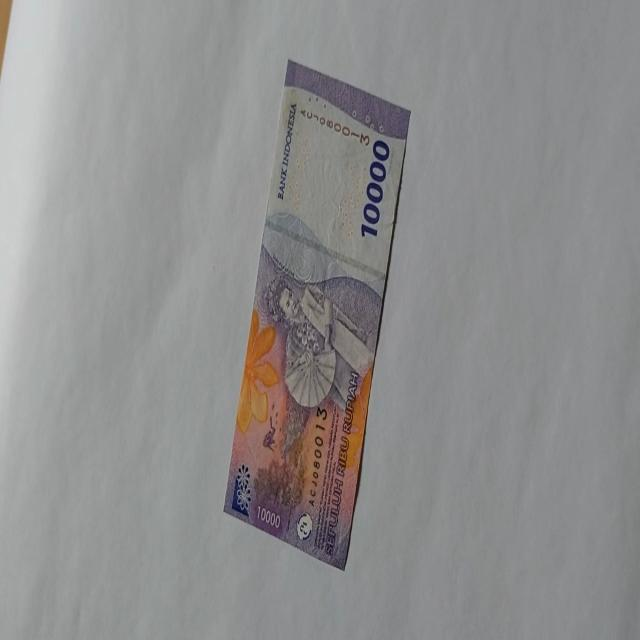sepuluh ribu rupiah: (222, 58, 412, 572)
